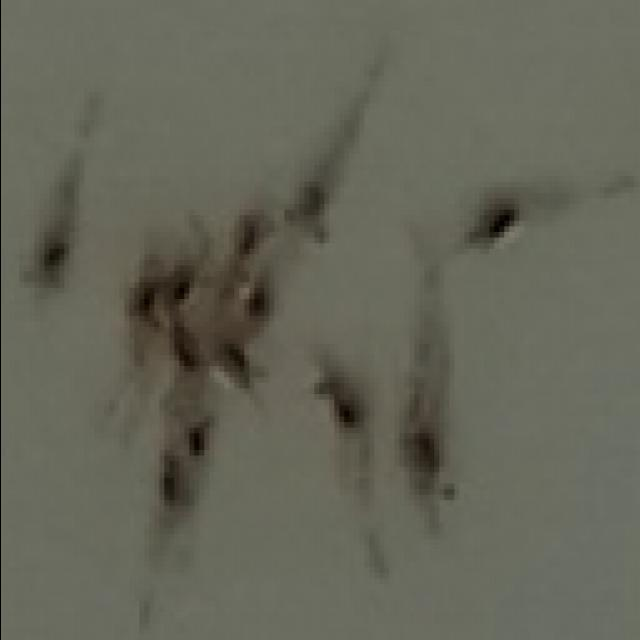shrimp-seed: (389, 426, 455, 511), (457, 189, 521, 262), (303, 352, 359, 434), (278, 178, 336, 250), (13, 232, 70, 300), (146, 462, 197, 518), (212, 337, 258, 399), (222, 200, 270, 257), (161, 318, 204, 378), (155, 256, 196, 318), (120, 273, 164, 329), (237, 279, 276, 330), (182, 418, 218, 462)
